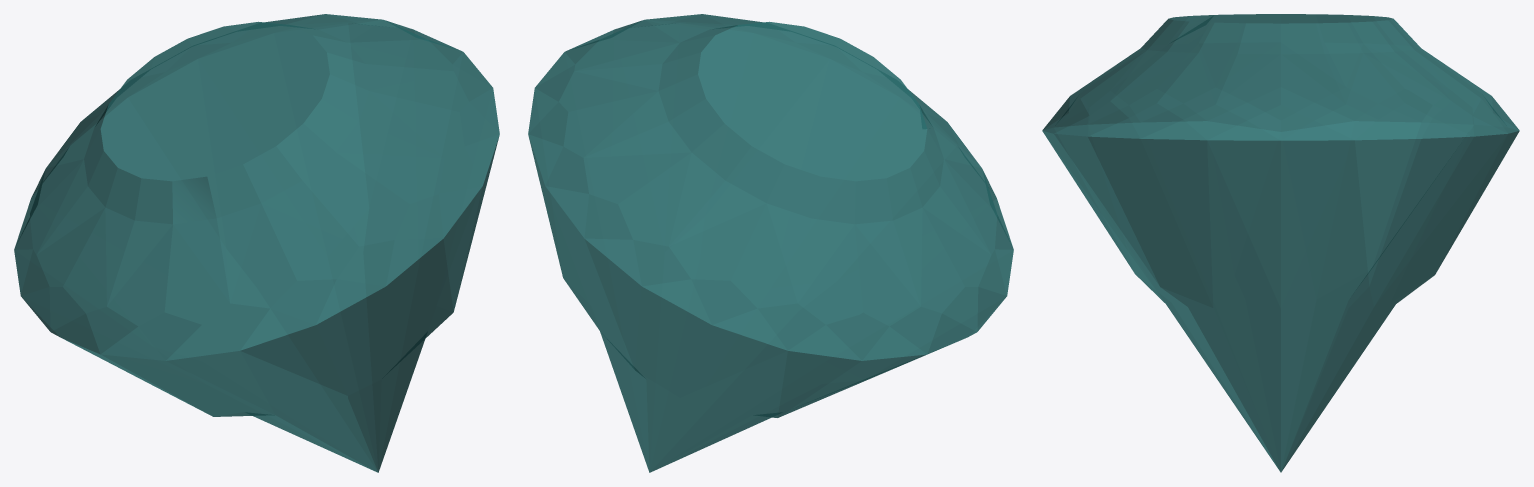
The model's file is Diamond.fbx.
3 renders of one model, left to right at view 1: azimuth 30°, elevation 25°; view 2: azimuth 150°, elevation 25°; view 3: azimuth 270°, elevation 25°, orthographic. The views are drawn at different scales.
Visible parts, largest first — view 1: pCone1; view 2: pCone1; view 3: pCone1.
Boxes of the visible parts, x1=… form: pCone1: x1=14, y1=14, x2=499, y2=472; pCone1: x1=528, y1=14, x2=1013, y2=472; pCone1: x1=1042, y1=14, x2=1519, y2=472.
Bounding box in the file's own units: 2.64 × 2.77 × 2.86.
